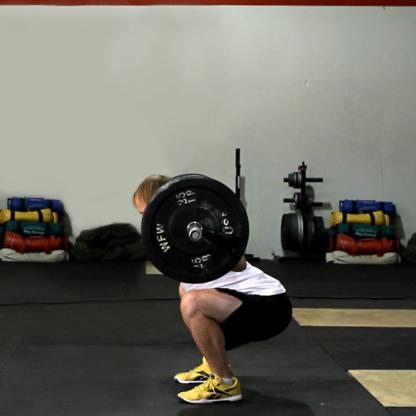Barbell: (138, 172, 252, 290)
